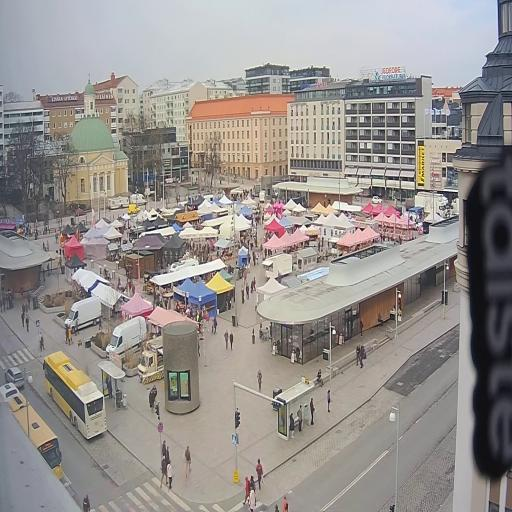bus: (0, 376, 67, 490), (39, 350, 110, 447)
car: (1, 359, 29, 390)
delivery: (104, 311, 150, 363), (62, 288, 106, 337), (414, 191, 448, 220), (129, 189, 150, 207), (124, 200, 140, 216)
